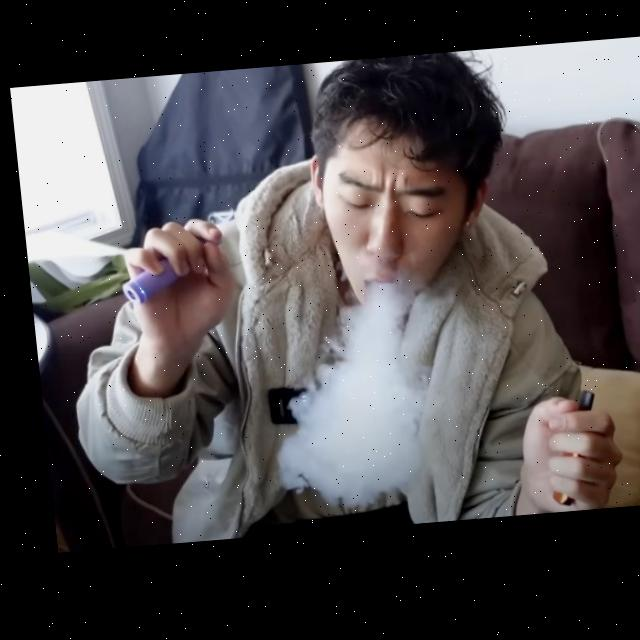vape: (113, 259, 175, 307)
